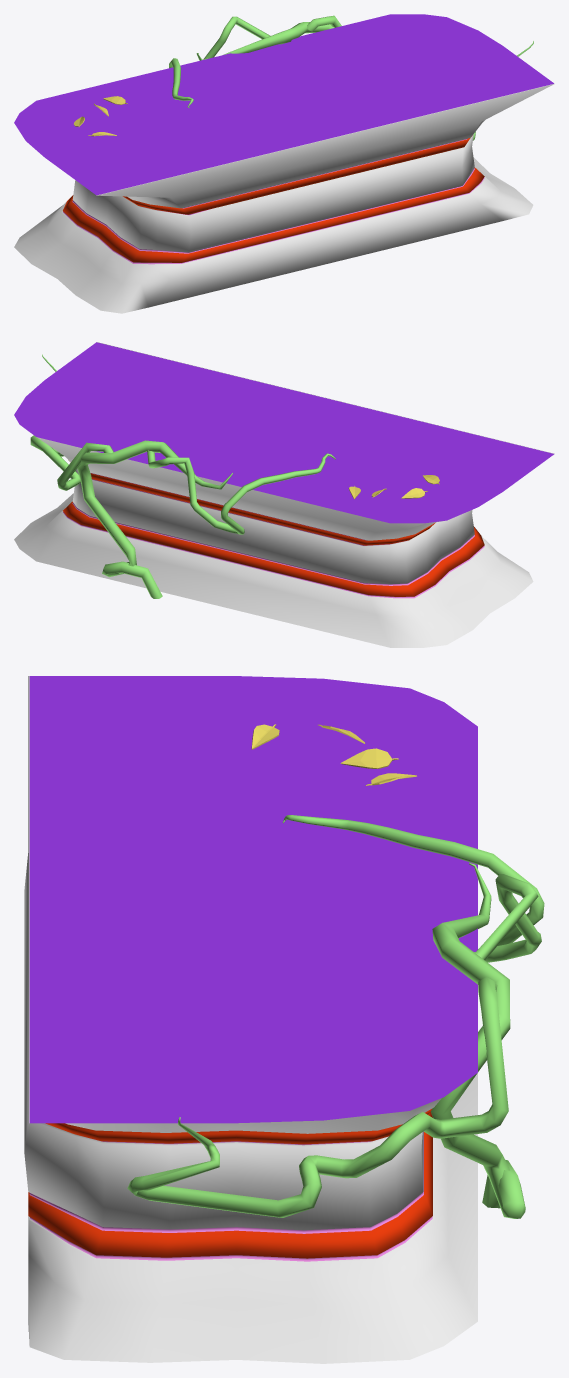
Rendered from MesaMedPParedOrigen.fbx.
3 views of the same model, one above another, from view 1: azimuth 30°, elevation 25°; view 2: azimuth 150°, elevation 25°; view 3: azimuth 270°, elevation 25° (orthographic). The views are drawn at different scales.
Parts seen in each view (by area): view 1: MesaMedPParedOrigen; view 2: MesaMedPParedOrigen; view 3: MesaMedPParedOrigen.
Boxes of the visible parts, box(x1,y1,x2,y2) form: MesaMedPParedOrigen: box(14, 14, 554, 313); MesaMedPParedOrigen: box(14, 342, 554, 647); MesaMedPParedOrigen: box(24, 676, 544, 1363).
Bounding box in the file's own units: 395 × 119 × 187.
